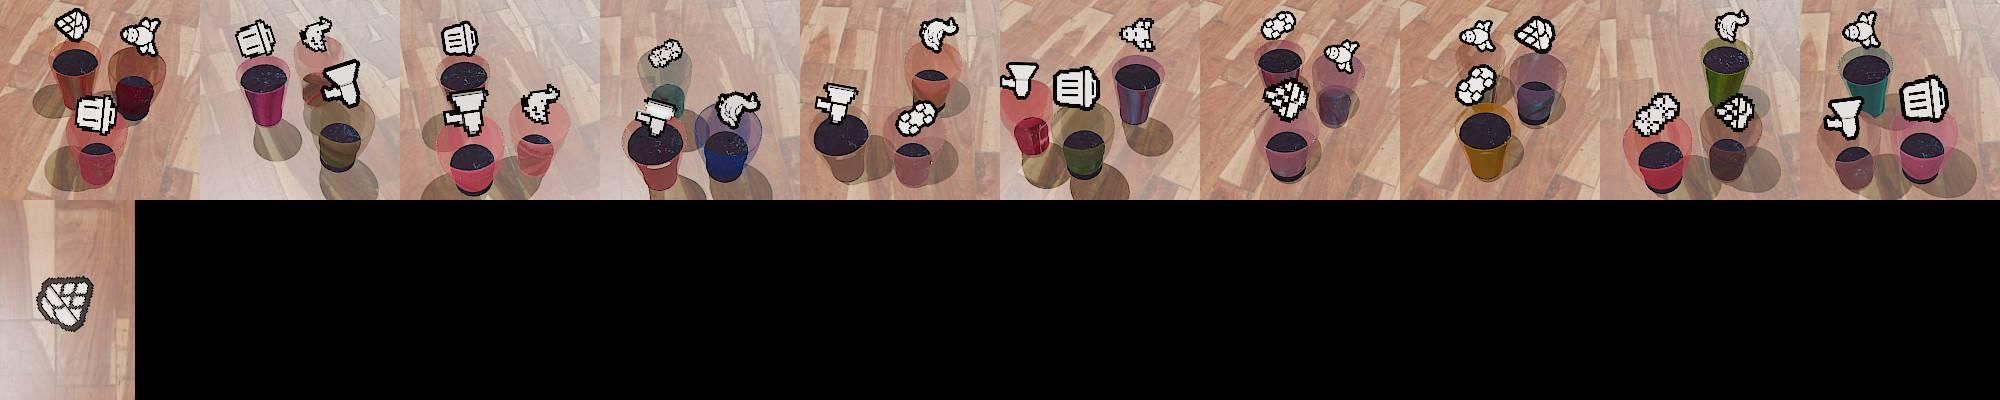icon: (34, 274, 93, 332), (1899, 75, 1949, 124), (1630, 92, 1680, 139), (443, 87, 489, 135), (1054, 65, 1101, 111), (1263, 78, 1310, 122), (321, 59, 362, 108), (74, 92, 119, 135), (814, 82, 858, 125), (713, 89, 761, 129), (1823, 96, 1865, 140), (633, 97, 679, 138), (233, 18, 277, 60), (1455, 64, 1497, 106), (120, 17, 161, 59), (1514, 15, 1556, 55), (440, 19, 481, 59), (520, 84, 561, 124), (1714, 93, 1756, 131), (895, 97, 937, 135), (918, 17, 959, 55), (1842, 10, 1880, 50), (1000, 61, 1041, 98), (298, 15, 334, 54), (54, 8, 91, 43), (1119, 17, 1154, 54), (1321, 39, 1360, 74), (1460, 18, 1496, 52), (1713, 9, 1749, 43), (1260, 9, 1296, 41), (647, 38, 684, 69)
